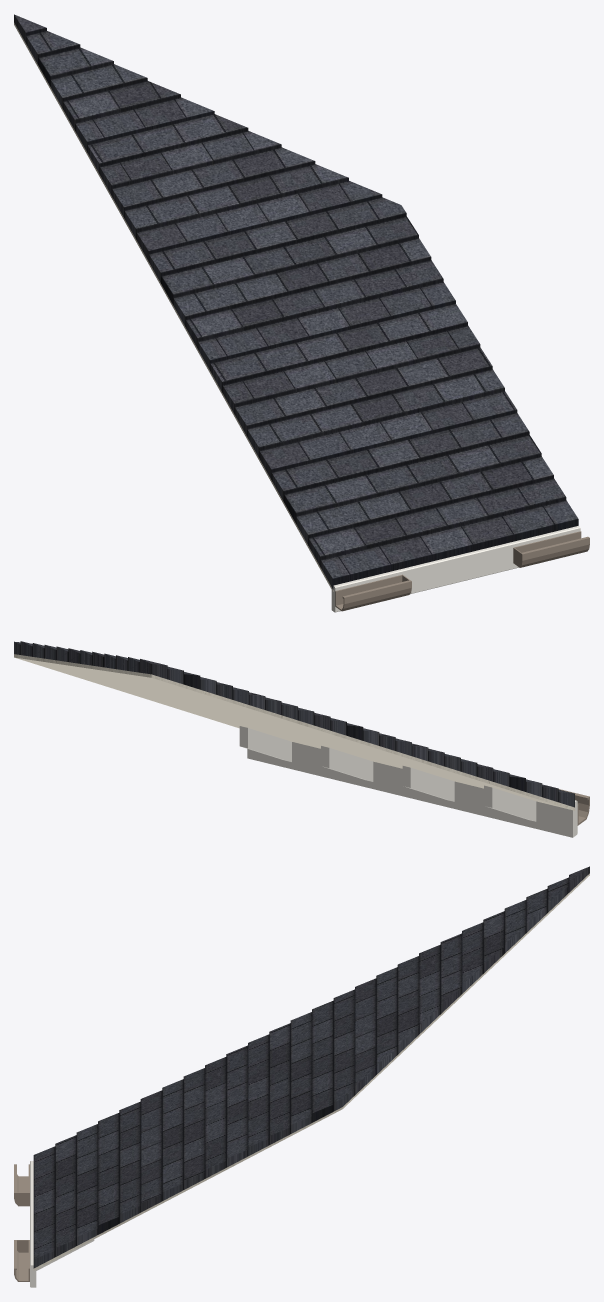
The model's file is roof_hip_3_chimney.glb.
The picture shows the model from 3 angles, top to bottom: view 1: azimuth 30°, elevation 25°; view 2: azimuth 150°, elevation 25°; view 3: azimuth 270°, elevation 25°; orthographic projection. The views are drawn at different scales.
Visible parts, largest first — view 1: roof_hip_3_chimney_shingles, roof_hip_3_chimney_trim, roof_hip_3_chimney_gutter, roof_hip_3_chimney_plaster; view 2: roof_hip_3_chimney_trim, roof_hip_3_chimney_plaster, roof_hip_3_chimney_shingles, roof_hip_3_chimney_gutter; view 3: roof_hip_3_chimney_shingles, roof_hip_3_chimney_plaster, roof_hip_3_chimney_gutter, roof_hip_3_chimney_trim.
Boxes of the visible parts, x1,y1,x2,y2 form: roof_hip_3_chimney_shingles: (14, 14, 578, 589); roof_hip_3_chimney_trim: (331, 526, 580, 612); roof_hip_3_chimney_gutter: (335, 531, 589, 611); roof_hip_3_chimney_plaster: (14, 22, 333, 591); roof_hip_3_chimney_trim: (239, 726, 577, 837); roof_hip_3_chimney_plaster: (14, 654, 574, 810); roof_hip_3_chimney_shingles: (14, 641, 574, 807); roof_hip_3_chimney_gutter: (558, 789, 589, 825); roof_hip_3_chimney_shingles: (33, 866, 589, 1268); roof_hip_3_chimney_plaster: (33, 873, 589, 1270); roof_hip_3_chimney_gutter: (14, 1164, 29, 1281); roof_hip_3_chimney_trim: (30, 1161, 94, 1287).
Size of the model in its own units: 2 by 2.83 by 4.66.
4 materials, 2 textured.
